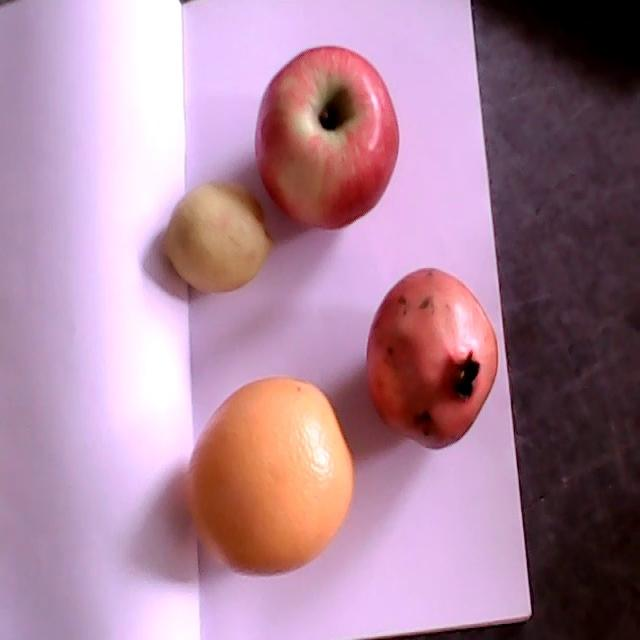apple: (251, 49, 401, 232)
lemon: (159, 181, 274, 294)
orange: (182, 377, 353, 579)
pomegranate: (366, 267, 498, 448)
